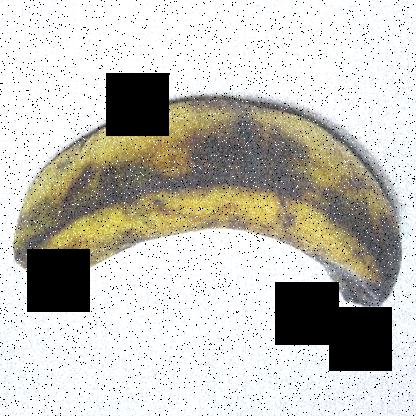overripe: (6, 76, 415, 327)
